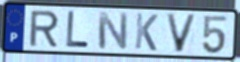5: (201, 14, 229, 55)
K: (133, 12, 160, 53)
L: (65, 10, 91, 50)
N: (96, 11, 129, 51)
R: (28, 10, 61, 48)
V: (164, 12, 199, 54)
